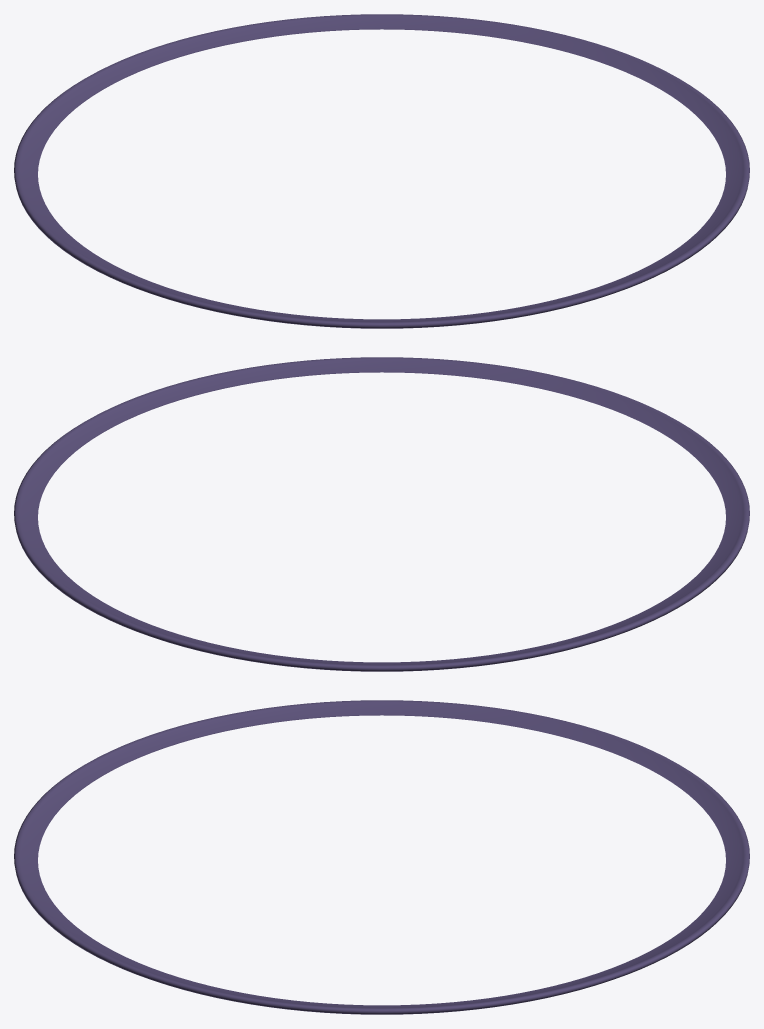
The model's file is EatsaPizzaPan.obj.
3 renders of one model, top to bottom at view 1: azimuth 30°, elevation 25°; view 2: azimuth 150°, elevation 25°; view 3: azimuth 270°, elevation 25°, orthographic.
Visible parts, largest first — view 1: Rim; view 2: Rim; view 3: Rim.
Part boxes in pixels (<box>): Rim: <box>14,14,749,328</box>; Rim: <box>14,357,749,671</box>; Rim: <box>14,700,749,1014</box>.
Bounding box in the file's own units: 43.96 × 0.4 × 43.96.
